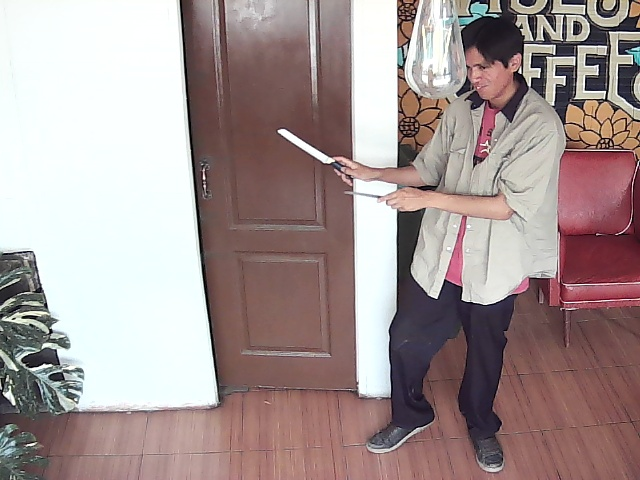cuchillo: (271, 127, 363, 188)
